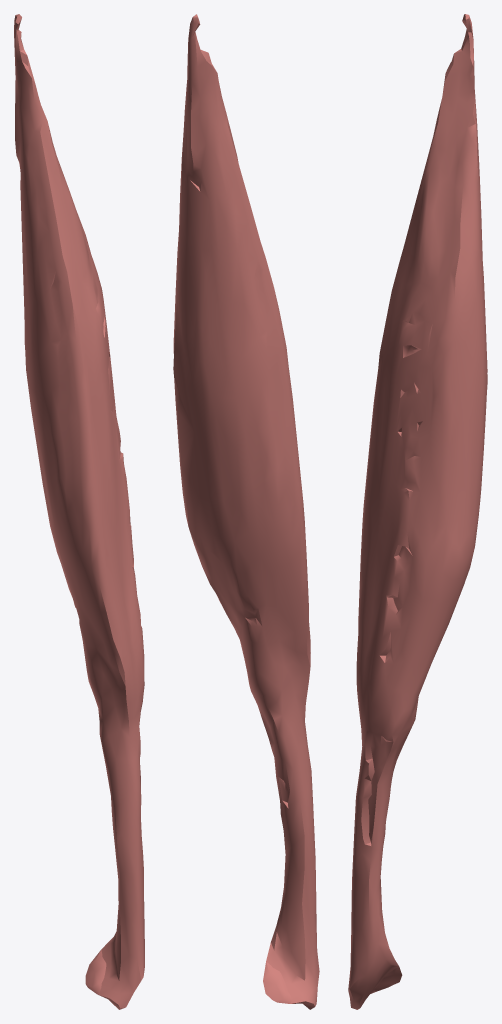
File: fma22460_mm1677.glb
The picture shows the model from 3 angles, left to right: view 1: azimuth 90°, elevation 25°; view 2: azimuth 150°, elevation 25°; view 3: azimuth 330°, elevation 25°; orthographic projection. The views are drawn at different scales.
Parts seen in each view (by area): view 1: FMA22460_MM1677; view 2: FMA22460_MM1677; view 3: FMA22460_MM1677.
Boxes of the visible parts, bbox=[...] form: FMA22460_MM1677: bbox=[14, 14, 144, 1009]; FMA22460_MM1677: bbox=[173, 14, 319, 1009]; FMA22460_MM1677: bbox=[348, 14, 487, 1009].
Bounding box in the file's own units: 0.0477 × 0.415 × 0.0509.
